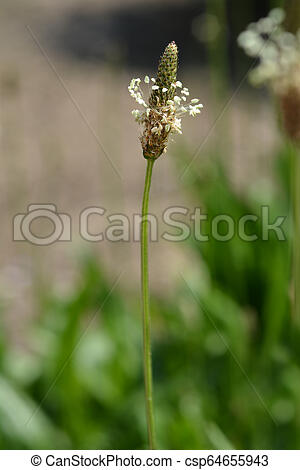buckhorn plantain: (118, 41, 194, 251)
